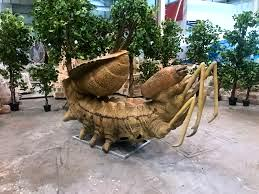Lobster Moth: (63, 50, 222, 154)
